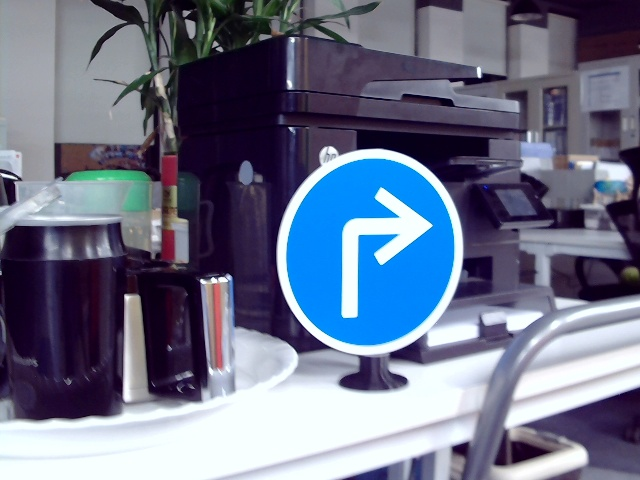turn_right: (320, 182, 428, 320)
